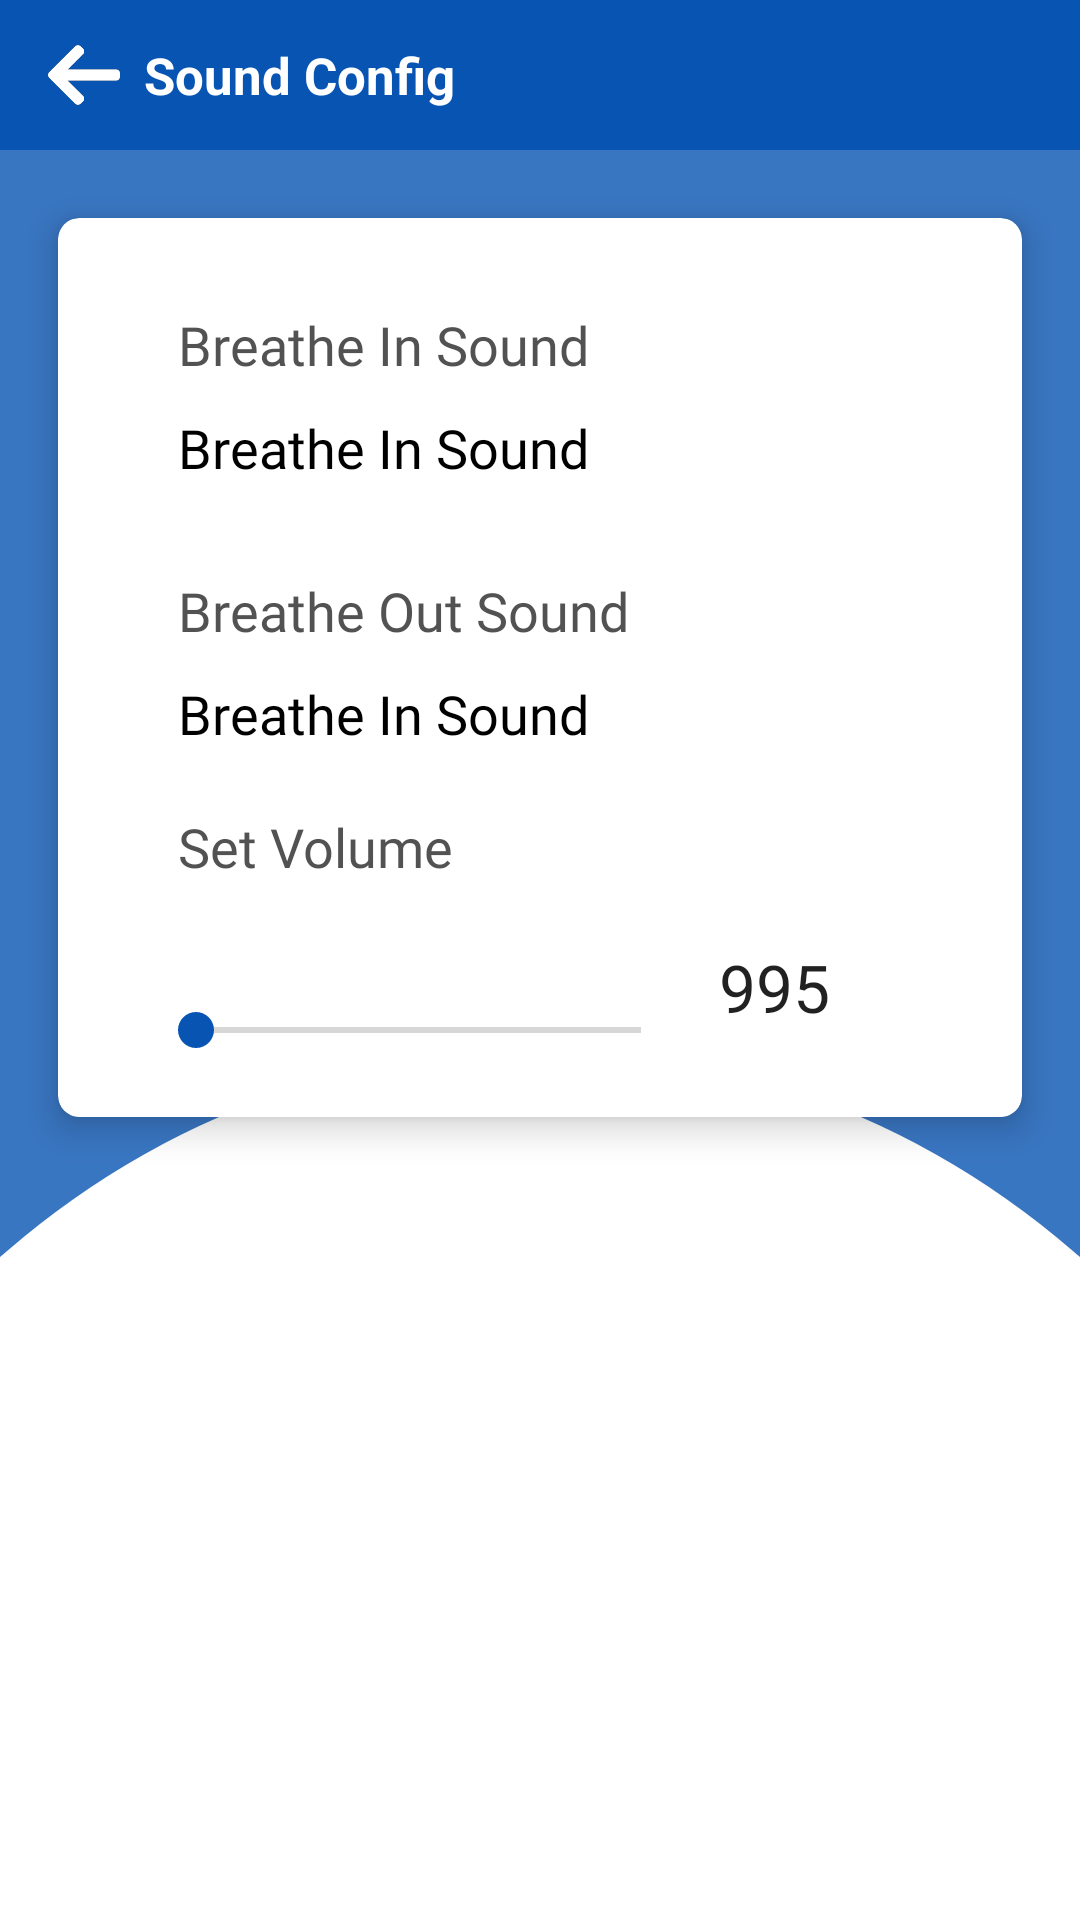

Icon bounding boxes for this 1080*1920 phone screenshot, format (x1, y1, x2, y2):
arrow back: (48, 45, 120, 105)
